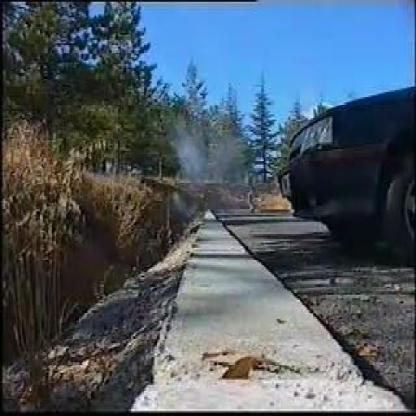-: (177, 126, 227, 220)
